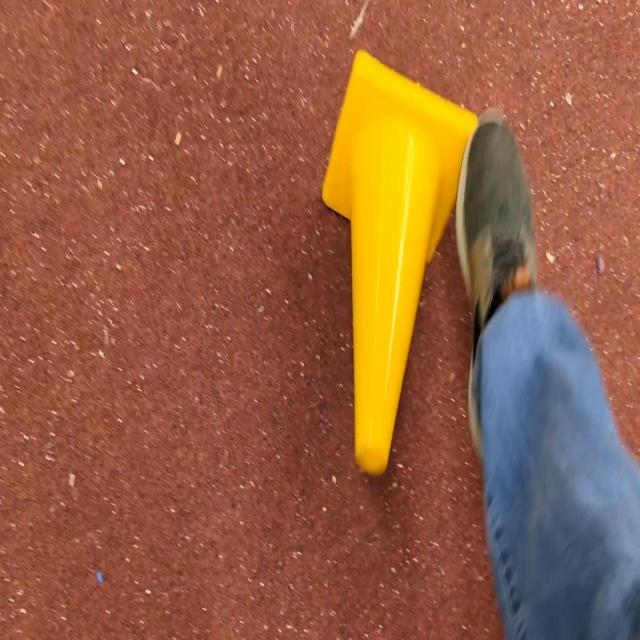frc_cone: (322, 49, 480, 480)
